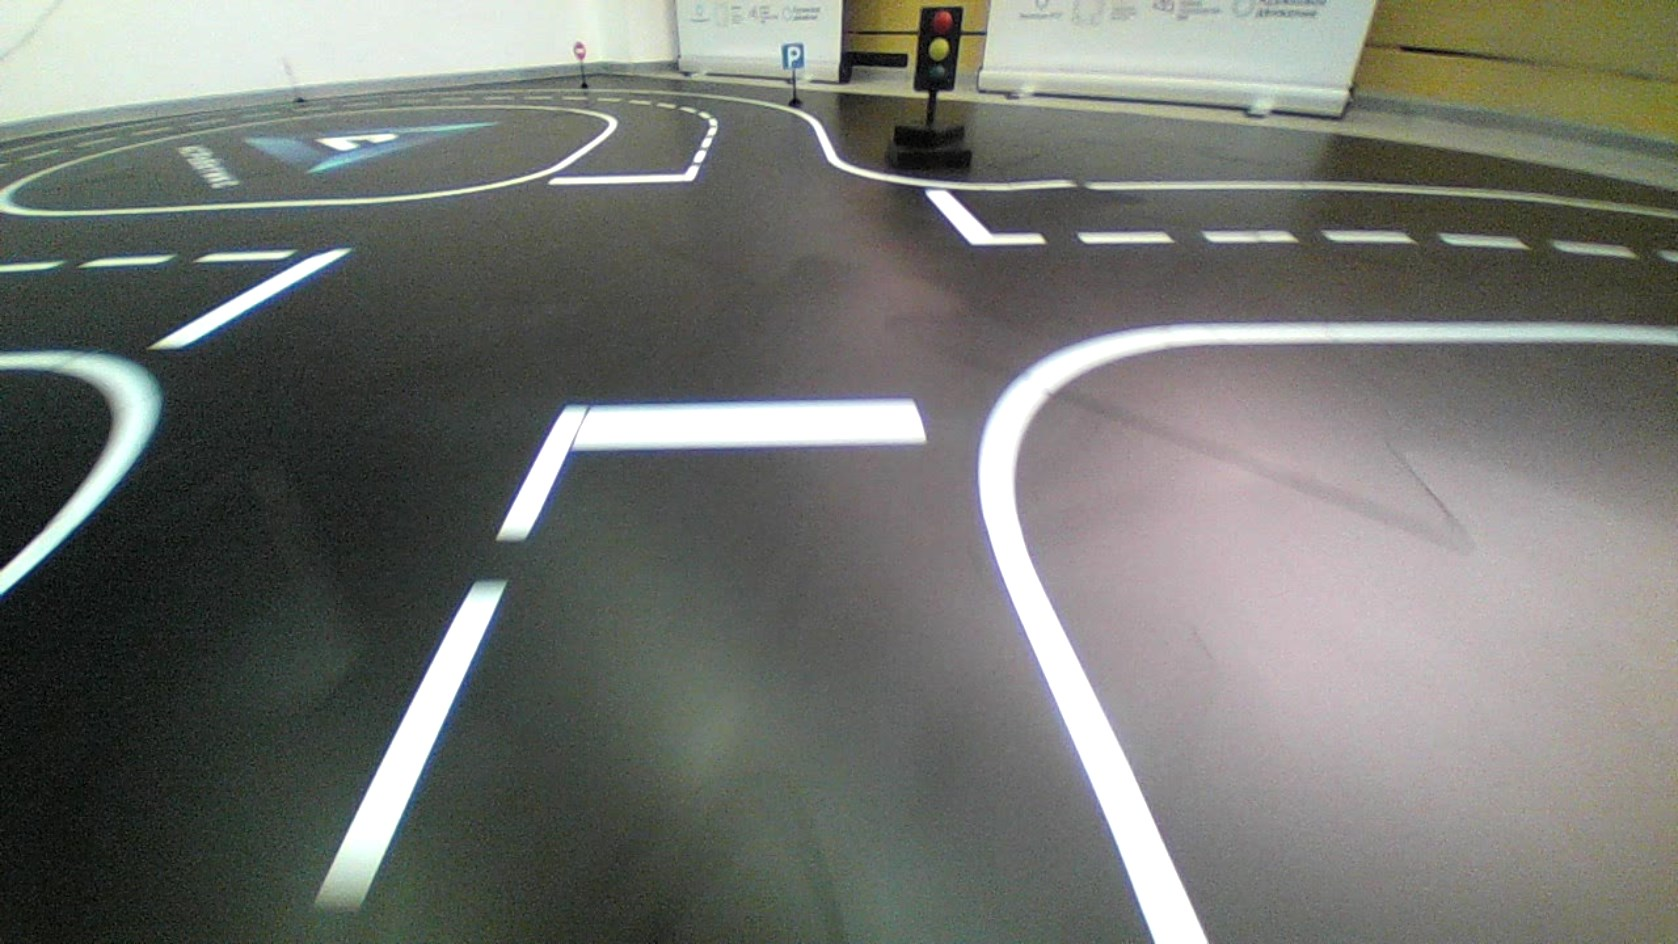trafficlight: (912, 5, 963, 92)
